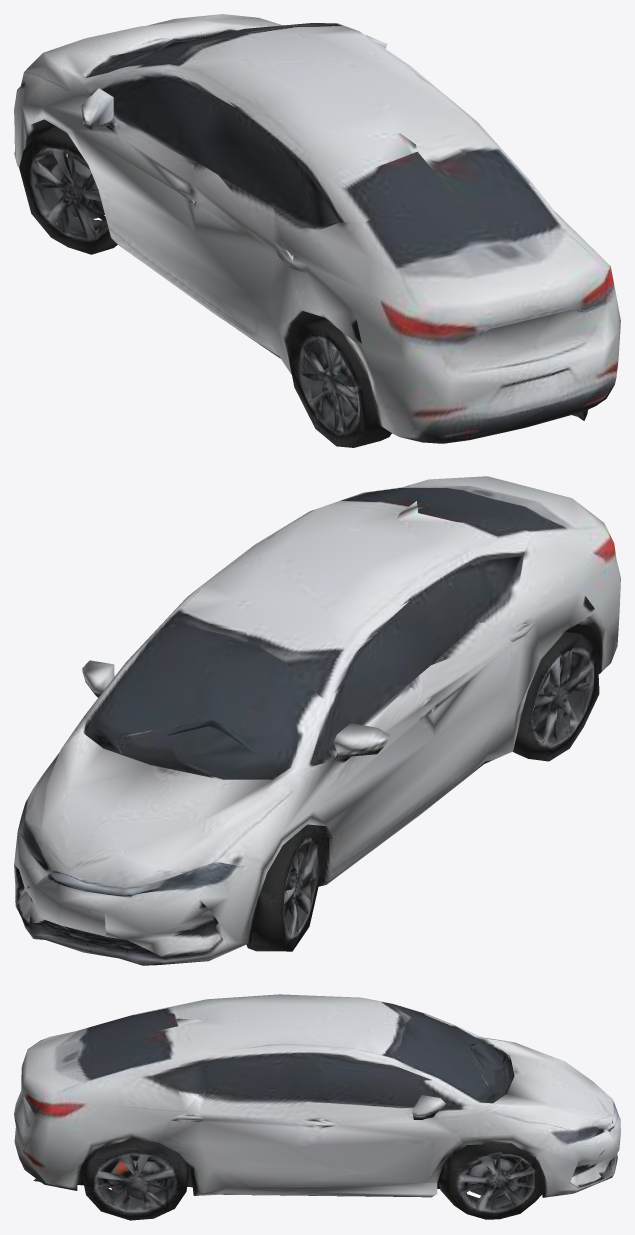
File: sp_car_sedan.glb
3 views of the same model, one above another, from view 1: azimuth 30°, elevation 25°; view 2: azimuth 150°, elevation 25°; view 3: azimuth 270°, elevation 25° (orthographic). The views are drawn at different scales.
Parts seen in each view (by area): view 1: tripo_node_2cc27c2d-ff05-41fa-afce-9172833e8602; view 2: tripo_node_2cc27c2d-ff05-41fa-afce-9172833e8602; view 3: tripo_node_2cc27c2d-ff05-41fa-afce-9172833e8602.
Part boxes in pixels (box(x1,y1,x2,y2)): tripo_node_2cc27c2d-ff05-41fa-afce-9172833e8602: box(14, 14, 620, 447); tripo_node_2cc27c2d-ff05-41fa-afce-9172833e8602: box(14, 476, 620, 965); tripo_node_2cc27c2d-ff05-41fa-afce-9172833e8602: box(14, 994, 620, 1220).
Size of the model in its own units: 1.86 by 1.47 by 4.85.
1 material, 1 textured.
